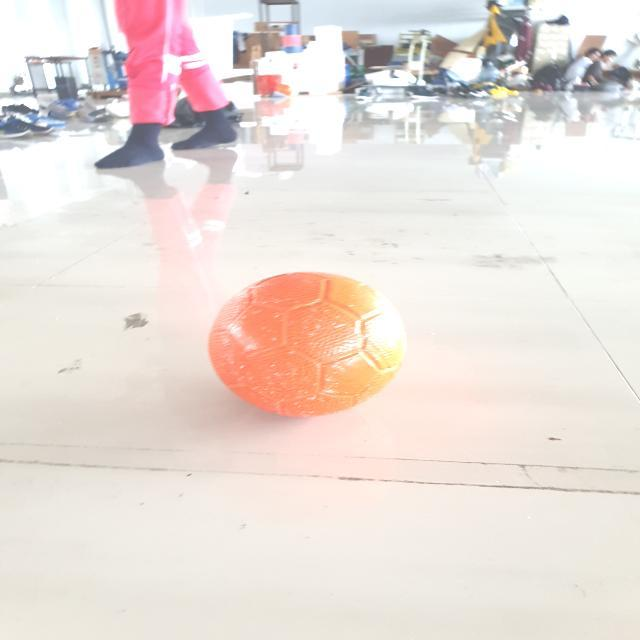bola: (190, 256, 432, 440)
